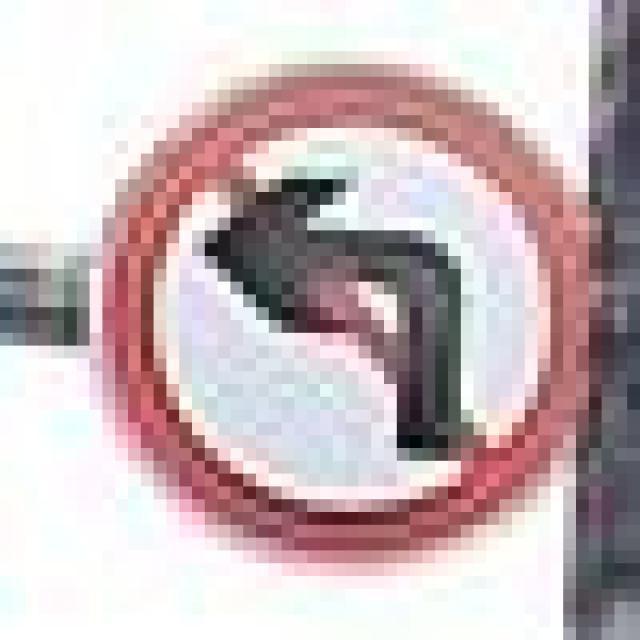left turn prohibited: (100, 60, 587, 570)
